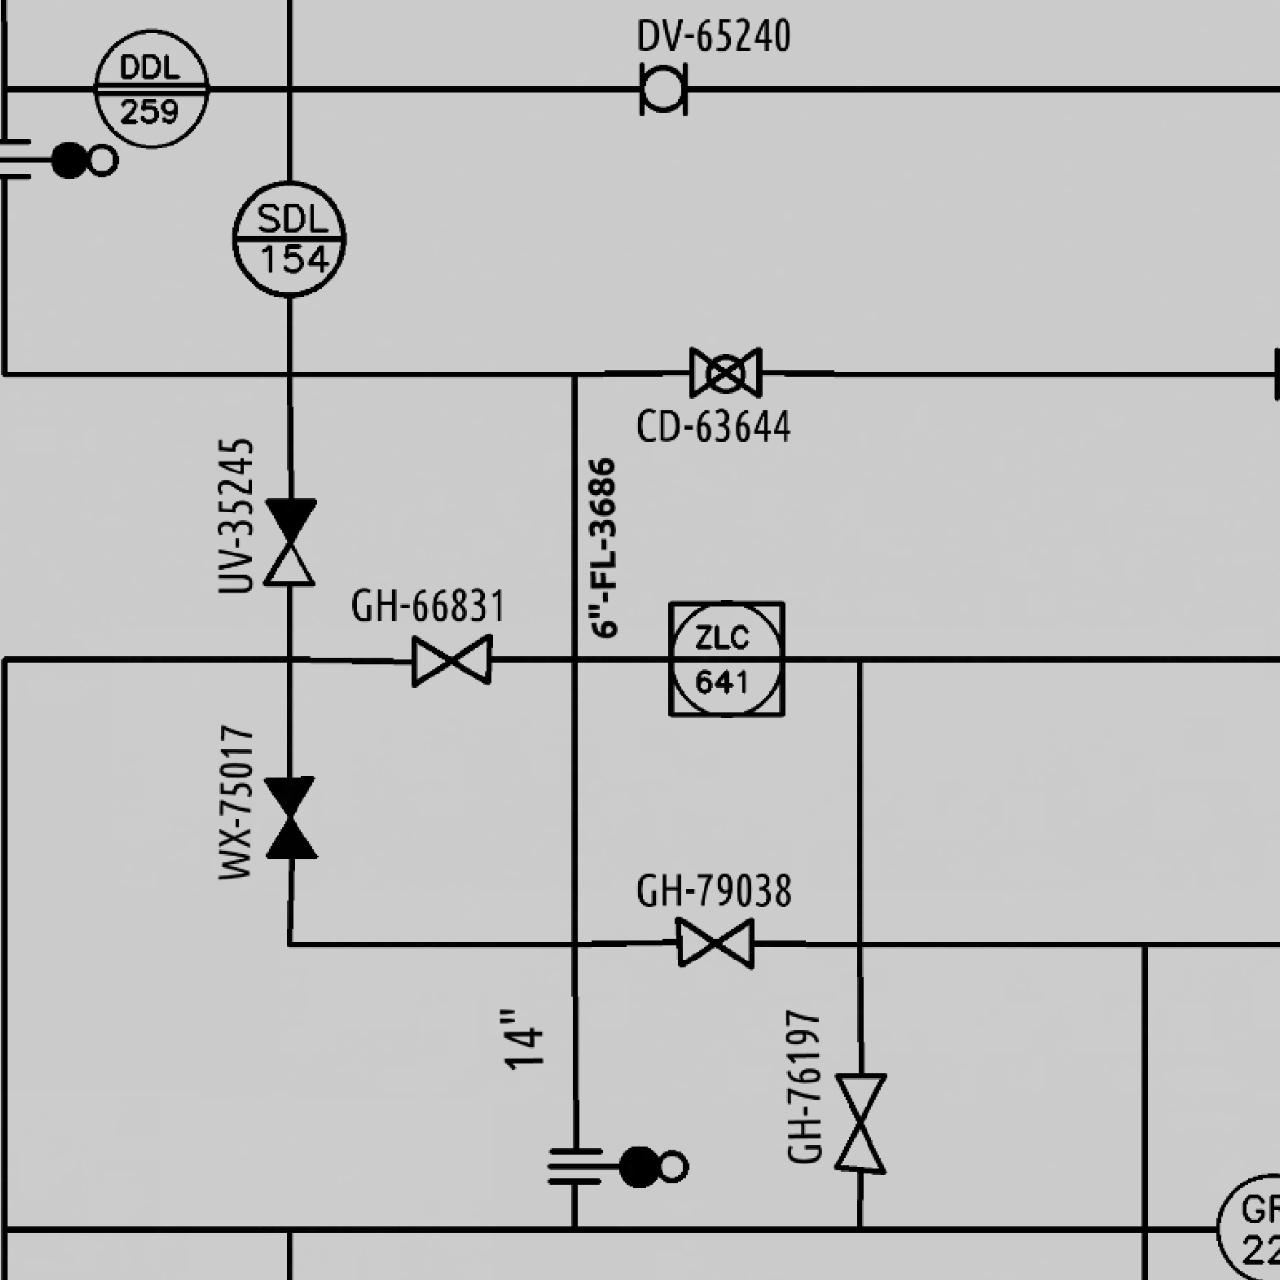Control-Panel: (86, 23, 215, 152)
Half closed valve: (258, 493, 320, 588)
